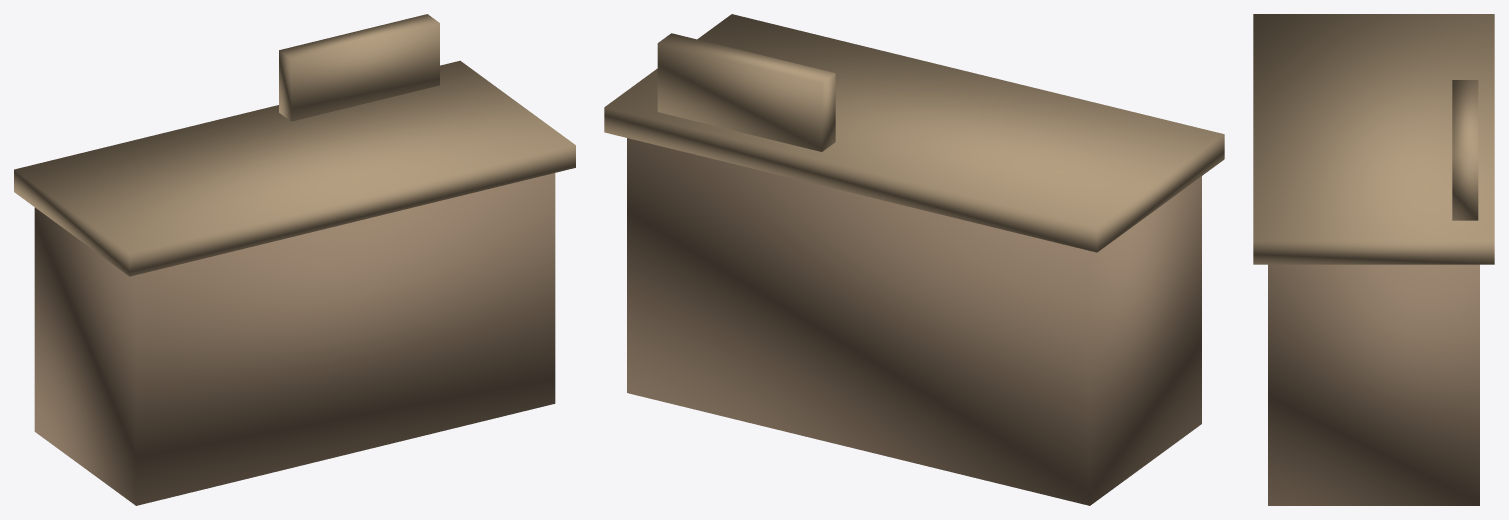
Rendered from clerk_counter.glb.
3 renders of one model, left to right at view 1: azimuth 30°, elevation 25°; view 2: azimuth 150°, elevation 25°; view 3: azimuth 270°, elevation 25°, orthographic. The views are drawn at different scales.
Visible parts, largest first — view 1: world; view 2: world; view 3: world.
Part boxes in pixels (x1,y1,x2,y2): world: [14, 14, 575, 505]; world: [604, 14, 1224, 505]; world: [1253, 14, 1494, 505].
Bounding box in the file's own units: 1.65 × 1.14 × 0.74.
